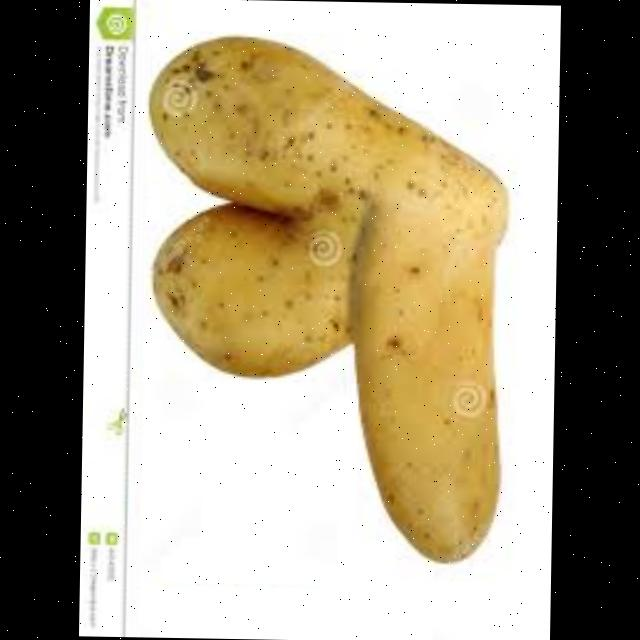Damaged potato: (137, 29, 531, 588)
